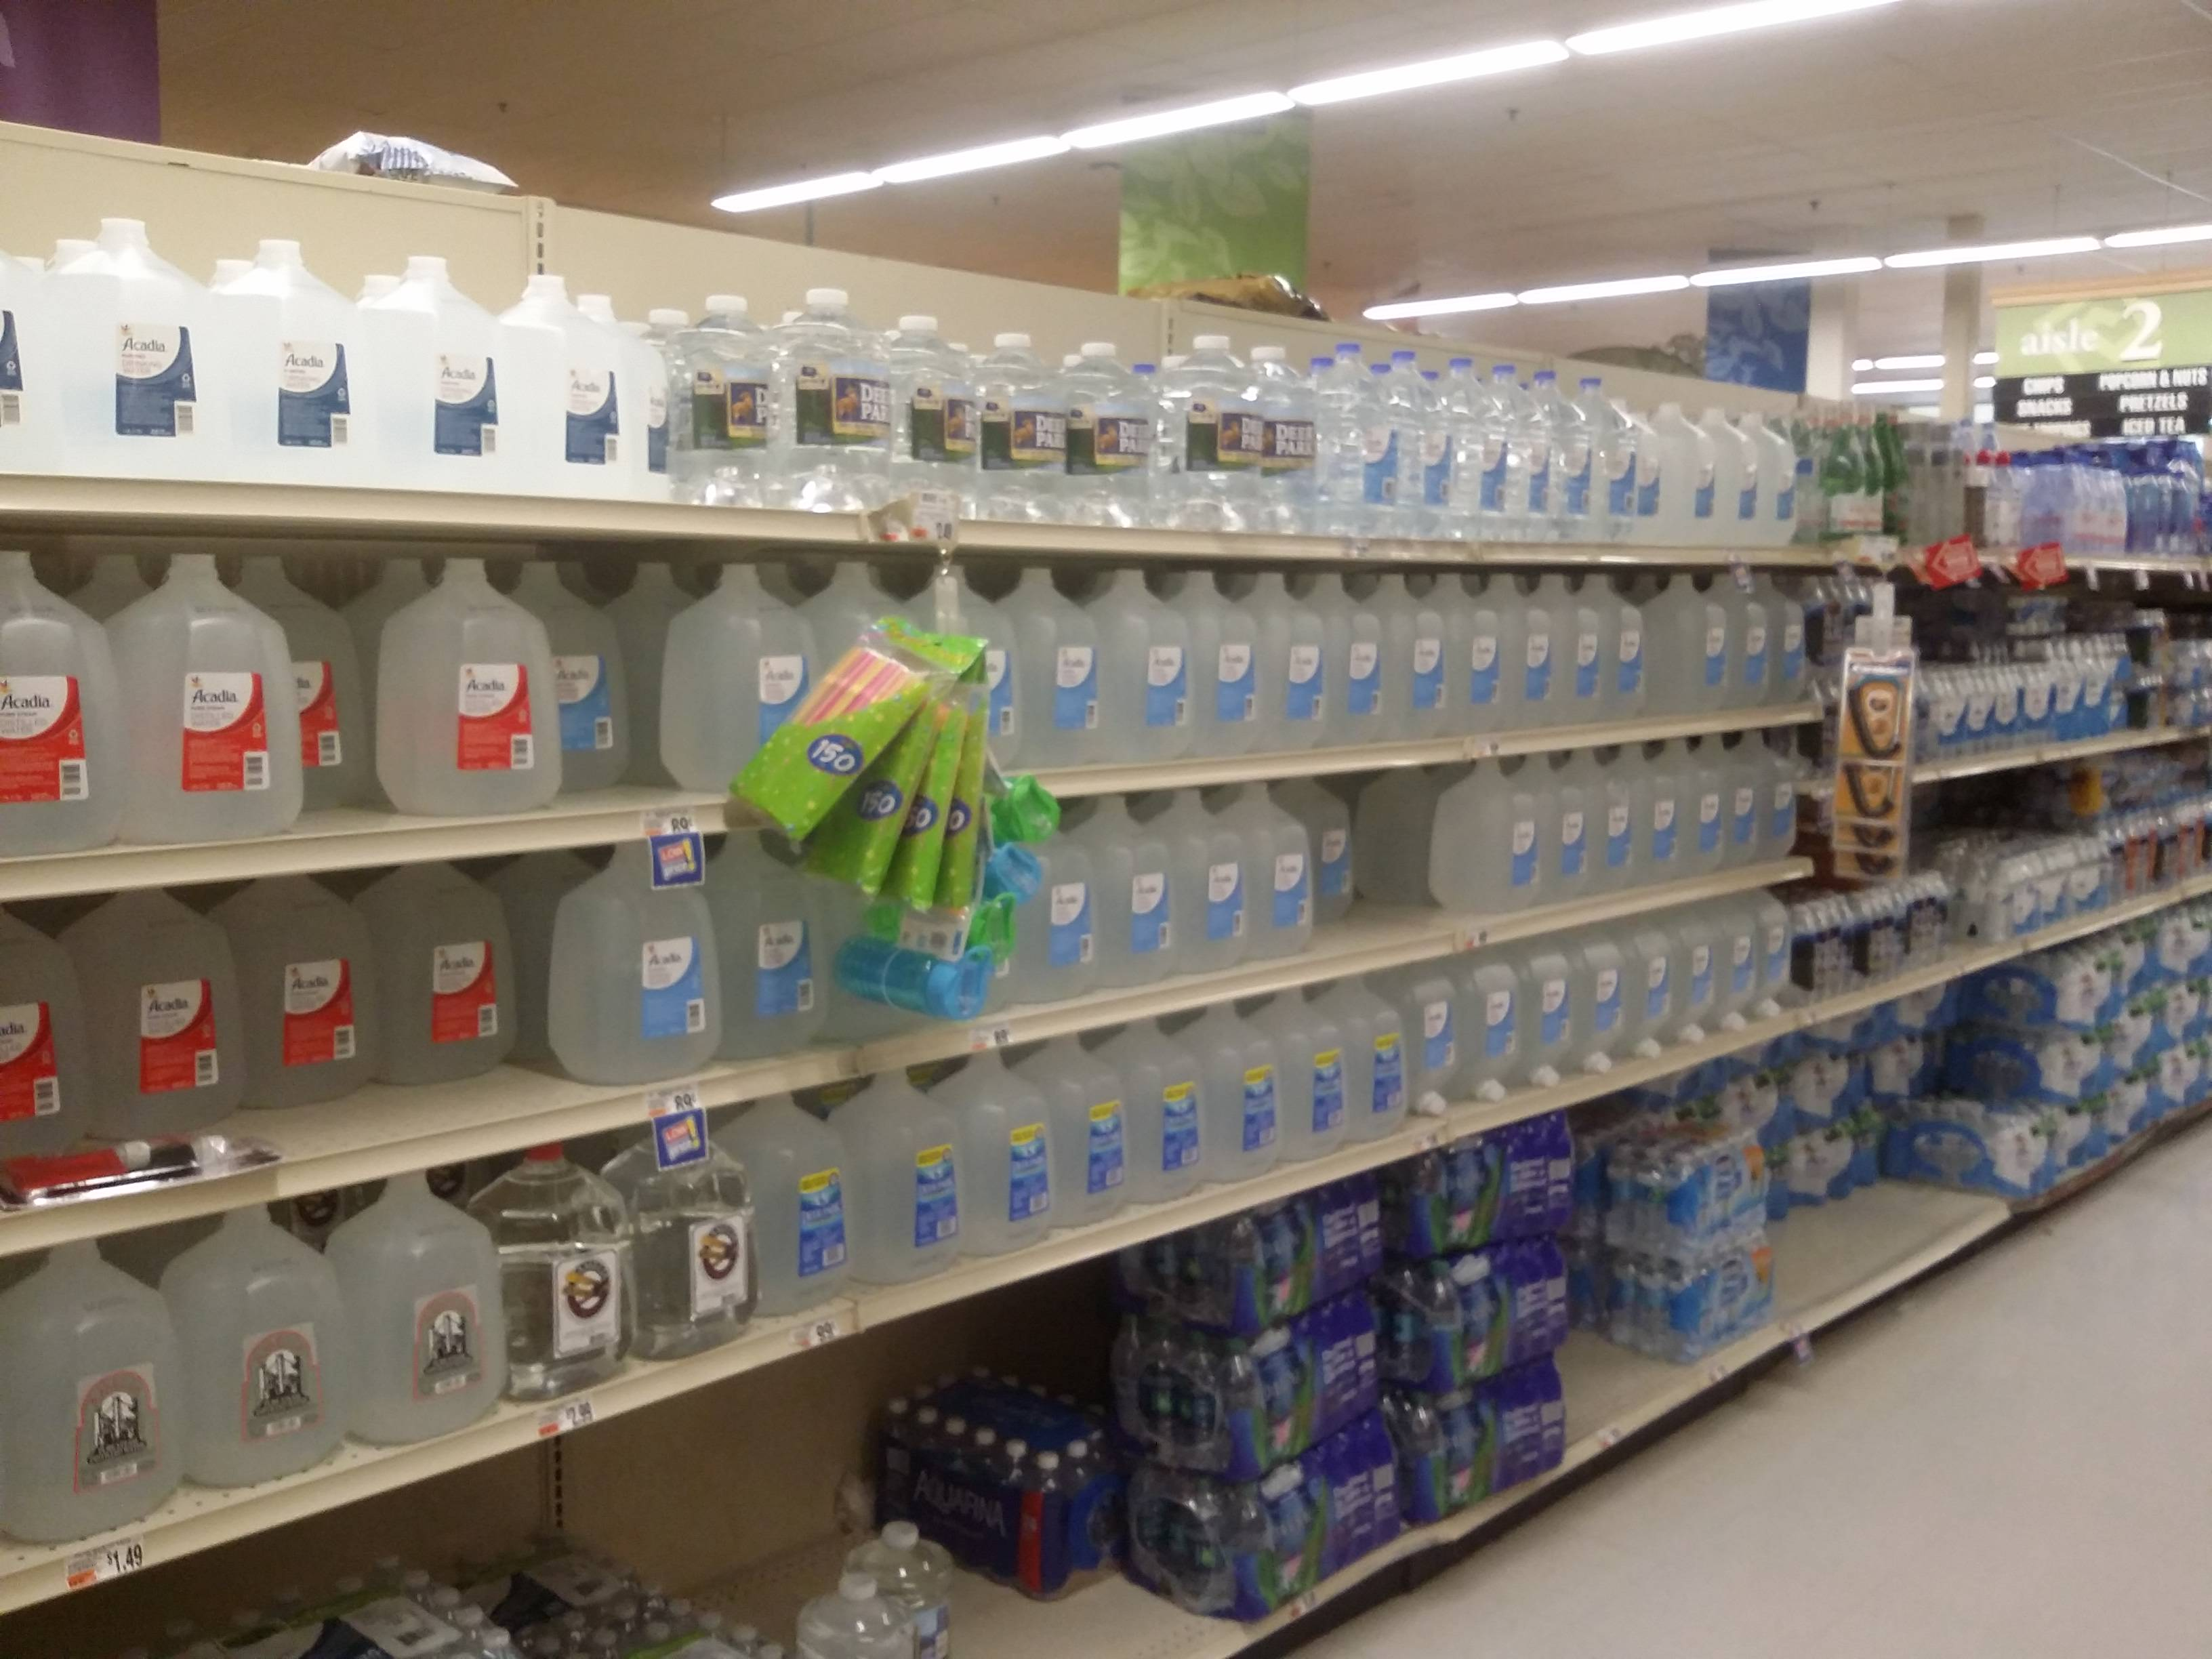Misplacement: (260, 852, 570, 1169), (1761, 1035, 1968, 1309), (226, 533, 385, 843), (1038, 1429, 1247, 1645), (521, 573, 702, 814), (1310, 763, 1451, 965)
